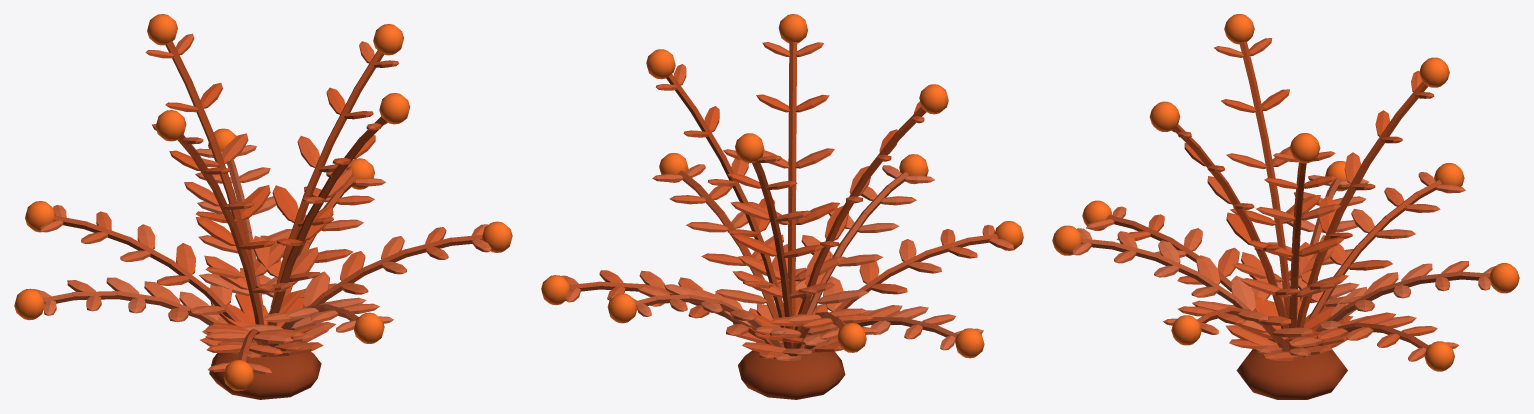
The model's file is Planta_FireFern.fbx.
The picture shows the model from 3 angles, left to right: view 1: azimuth 30°, elevation 25°; view 2: azimuth 150°, elevation 25°; view 3: azimuth 270°, elevation 25°; orthographic projection. The views are drawn at different scales.
Parts seen in each view (by area): view 1: Corpo_FireFern, Brilho_FireFern; view 2: Corpo_FireFern, Brilho_FireFern; view 3: Corpo_FireFern, Brilho_FireFern.
Part boxes in pixels (x1,y1,x2,y2): Corpo_FireFern: (33, 33, 491, 399); Brilho_FireFern: (14, 14, 512, 391); Corpo_FireFern: (561, 41, 1013, 399); Brilho_FireFern: (541, 14, 1023, 358); Corpo_FireFern: (1072, 38, 1495, 399); Brilho_FireFern: (1052, 14, 1519, 371).
Size of the model in its own units: 3.33 by 2.52 by 3.35.
Materials: 1 (1 with a texture image).
